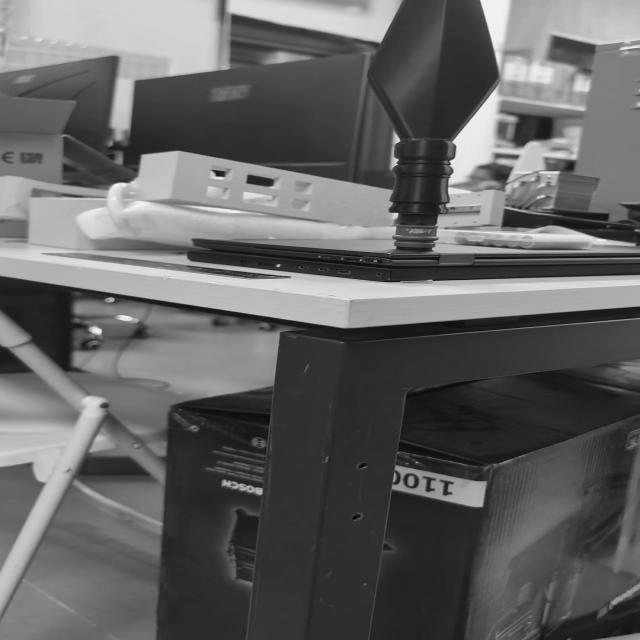base: (393, 224, 440, 250)
